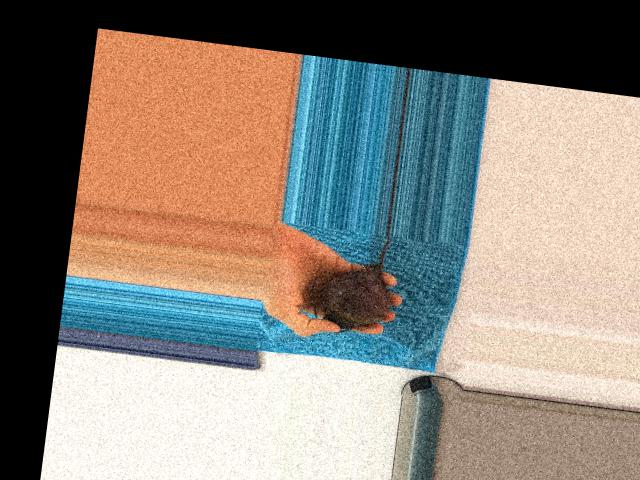beet: (307, 225, 400, 338)
